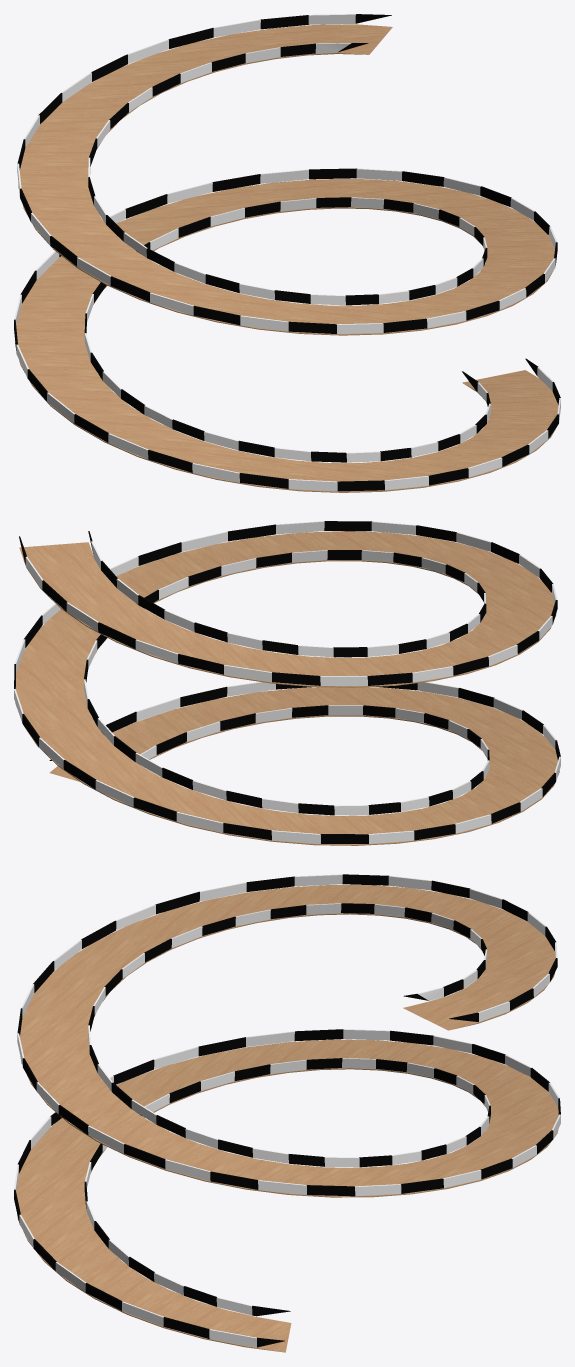
File: ramp_lowpoly.glb
3 renders of one model, top to bottom at view 1: azimuth 30°, elevation 25°; view 2: azimuth 150°, elevation 25°; view 3: azimuth 270°, elevation 25°, orthographic.
Visible parts, largest first — view 1: Ramp; view 2: Ramp; view 3: Ramp.
Boxes of the visible parts, left/top/right/bottom form: Ramp: left=14, top=14, right=560, bottom=492; Ramp: left=14, top=521, right=560, bottom=845; Ramp: left=14, top=874, right=560, bottom=1352.
Bounding box in the file's own units: 92.15 × 57.14 × 91.83.
Materials: 4 (1 with a texture image).
